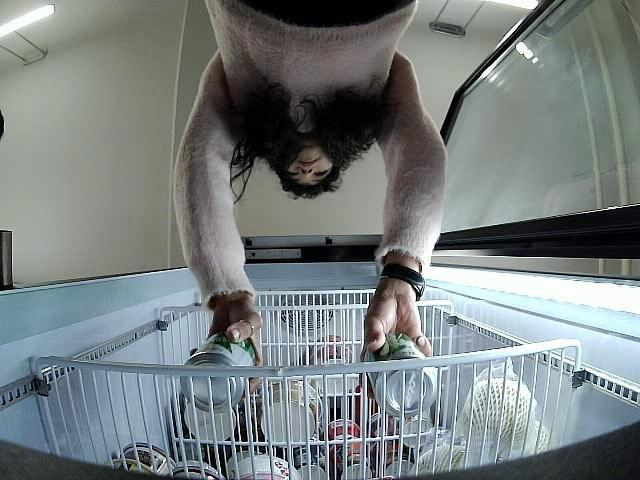12_chilsungCider: (180, 330, 259, 412), (362, 333, 438, 415)
